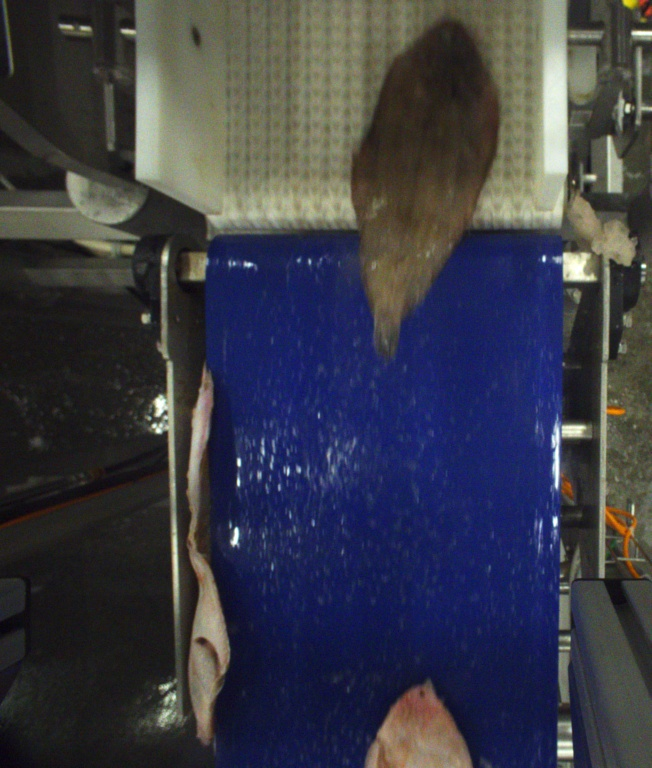SOL: (366, 686, 475, 768)
